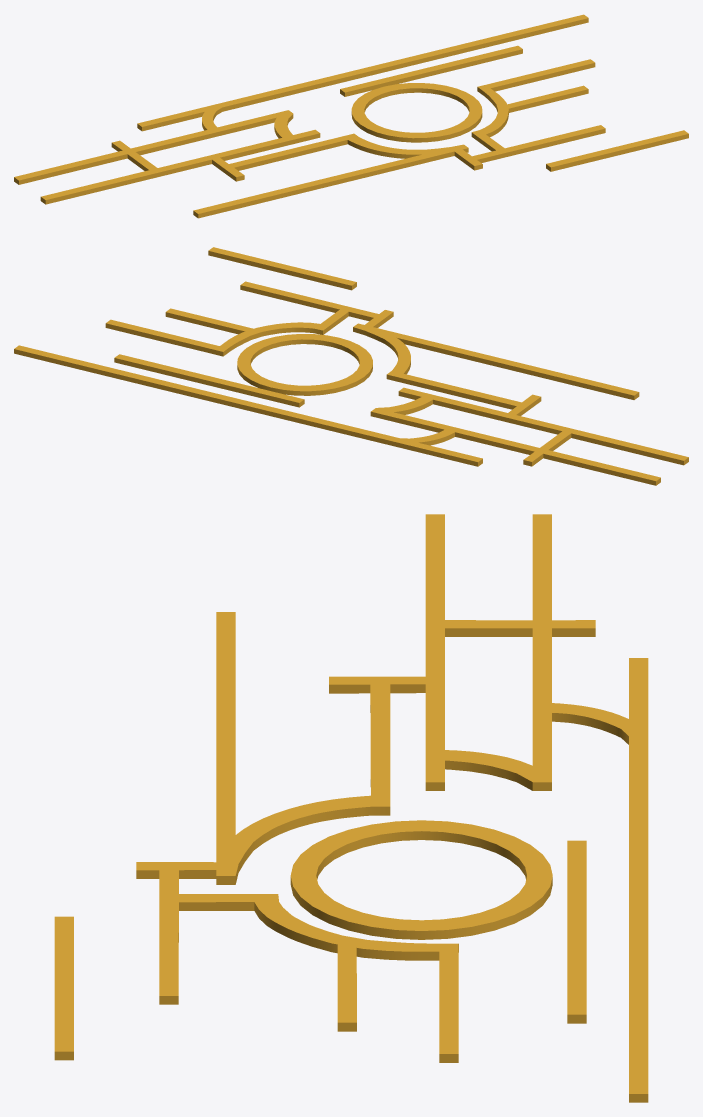
Rendered from DekorBig1.fbx.
The picture shows the model from 3 angles, top to bottom: view 1: azimuth 30°, elevation 25°; view 2: azimuth 150°, elevation 25°; view 3: azimuth 270°, elevation 25°; orthographic projection. The views are drawn at different scales.
Visible parts, largest first — view 1: Dekor1; view 2: Dekor1; view 3: Dekor1.
Part boxes in pixels (x1,y1,x2,y2): Dekor1: (14, 14, 688, 218); Dekor1: (14, 247, 688, 485); Dekor1: (54, 514, 648, 1102).
Size of the model in its own units: 465 by 3.32 by 201.
